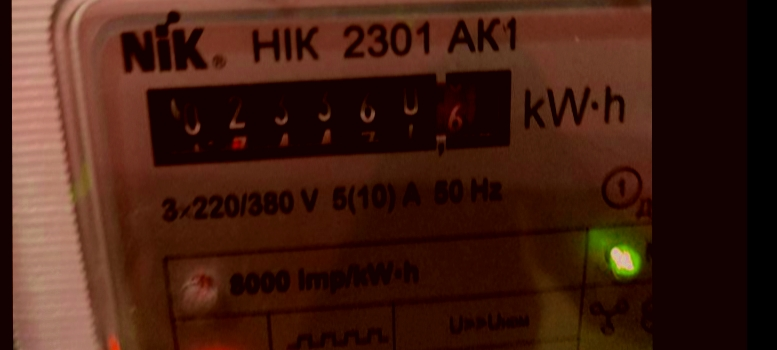0: (177, 96, 202, 138), (397, 80, 420, 117)
2: (221, 90, 247, 130)
3: (268, 88, 289, 128), (310, 86, 332, 124)
6: (352, 86, 378, 127), (444, 99, 465, 135)
screen: (123, 56, 524, 175)
